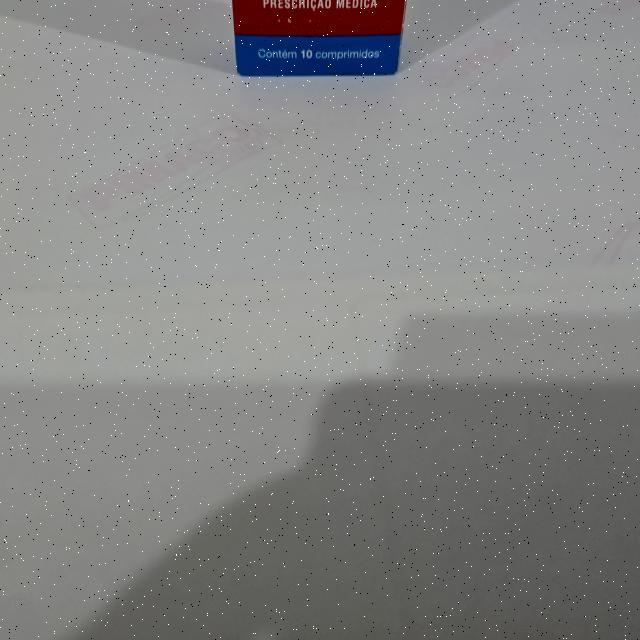prednisona: (227, 0, 412, 80)
